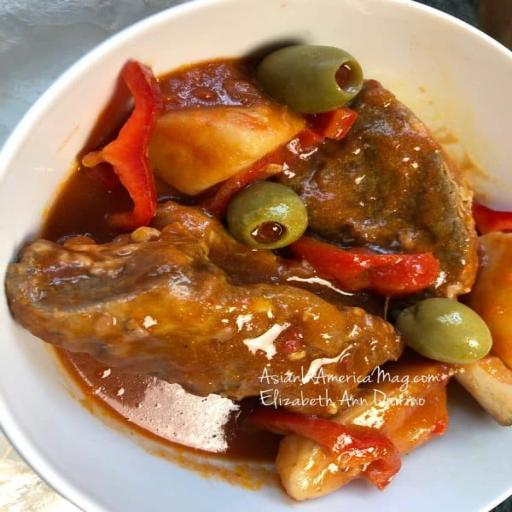pork caldereta: (41, 55, 501, 487)
